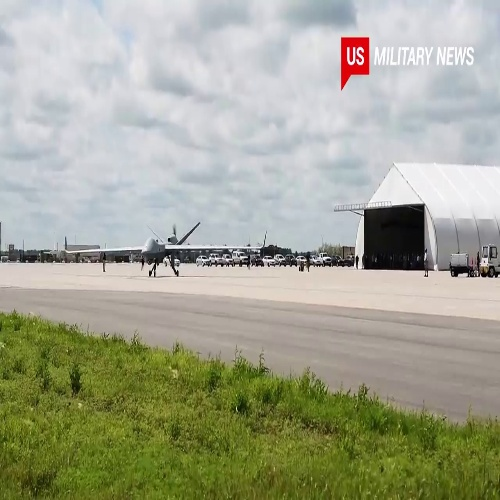uav: (63, 221, 269, 279)
